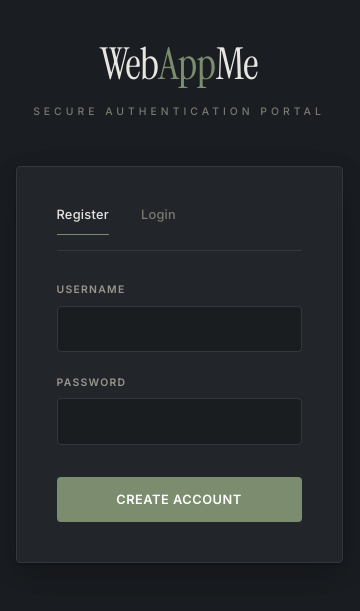
Test: App › shows success message on successful registration
The width and height of the screenshot is (360, 611).
Type "test" into the field labelled "Username".
click(179, 329); type("test")  # box 56,306 -> 302,352
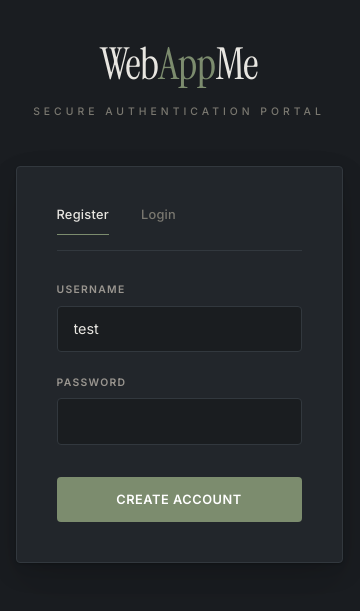
Type "password" into the password field labelled "Password".
click(179, 422); type("password")  # box 56,398 -> 302,445
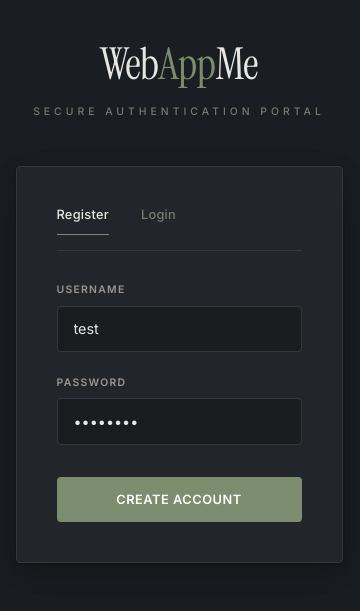
Click the button "Create Account".
click(179, 499)  # box 56,477 -> 302,522
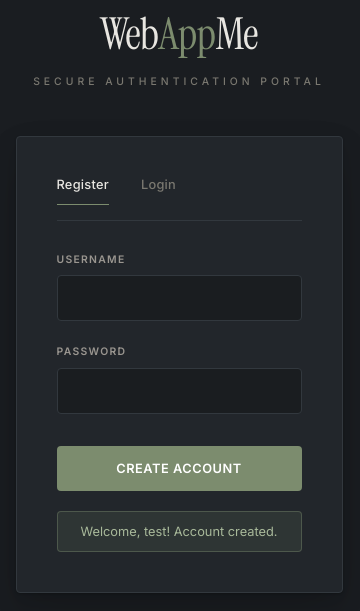
Check: the text "Welcome, test! Account created." is shown, box 56,512 -> 302,552
